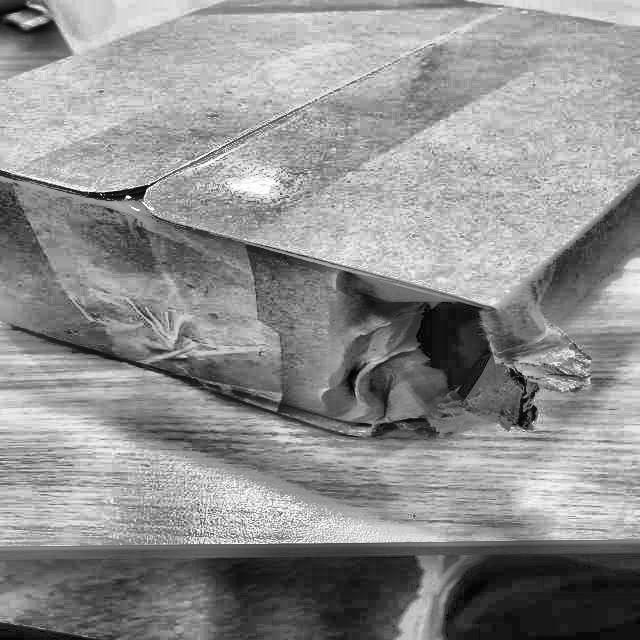box: (1, 0, 639, 452)
hole: (327, 261, 525, 435)
